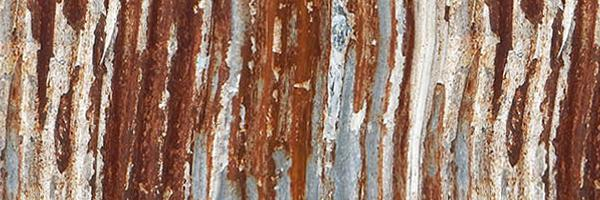rust: (481, 3, 599, 195), (113, 1, 198, 197), (243, 1, 319, 192)
